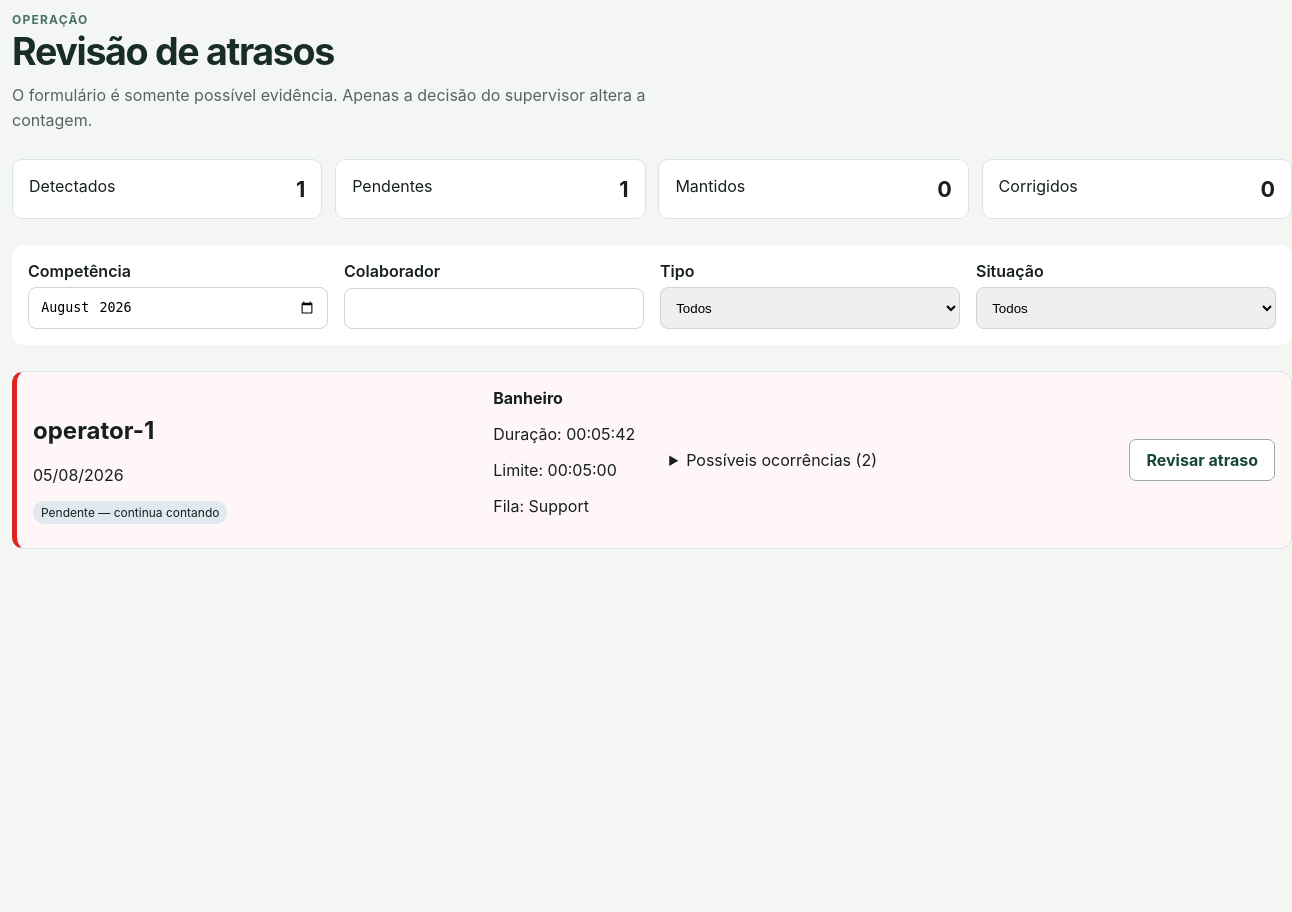
Test case: forwards filters and presents HTTP errors
Check: the text "Pendente — continua contando" is shown, box left=33, top=501, right=228, bottom=524
Select "Entrada" in the dropdown labelled "Tipo" at (810,308), box left=660, top=287, right=960, bottom=329
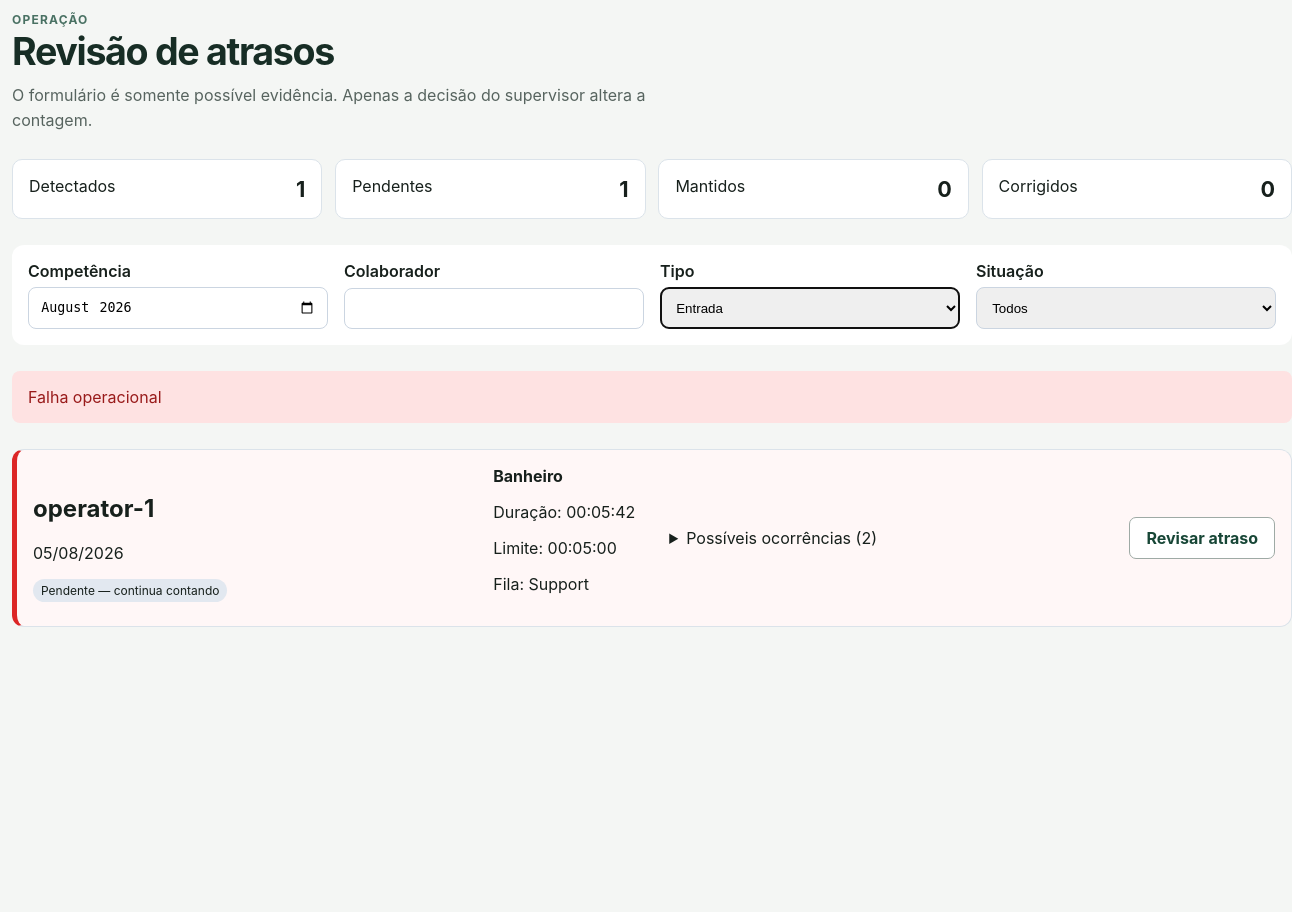
Check: the message reads "Falha operacional", box left=28, top=387, right=162, bottom=407
